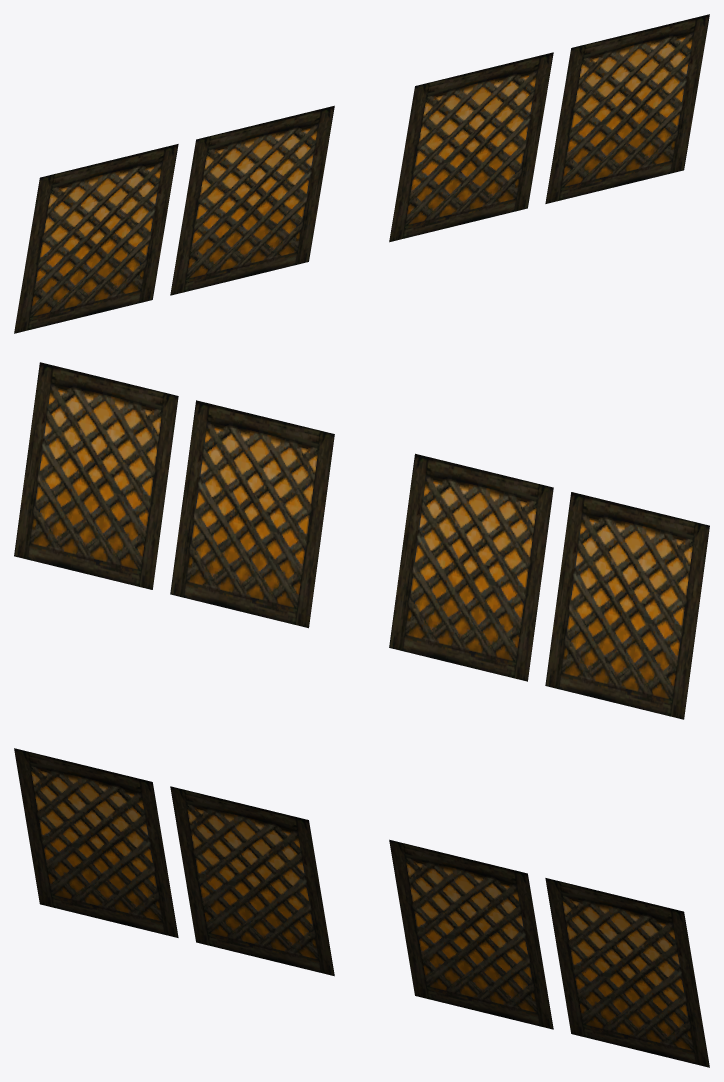
Rendered from LAKETOWN_EXTERIOR_PS_LT_WINDOWS2840.fbx.
The picture shows the model from 3 angles, top to bottom: view 1: azimuth 30°, elevation 25°; view 2: azimuth 150°, elevation 25°; view 3: azimuth 330°, elevation 25°; orthographic projection.
Parts seen in each view (by area): view 1: LAKETOWN_EXTERIOR_PS_LT_WINDOWS2840; view 2: LAKETOWN_EXTERIOR_PS_LT_WINDOWS2840; view 3: LAKETOWN_EXTERIOR_PS_LT_WINDOWS2840.
Boxes of the visible parts, x1,y1,x2,y2 form: LAKETOWN_EXTERIOR_PS_LT_WINDOWS2840: (14, 14, 709, 333); LAKETOWN_EXTERIOR_PS_LT_WINDOWS2840: (14, 362, 709, 719); LAKETOWN_EXTERIOR_PS_LT_WINDOWS2840: (14, 748, 709, 1067).
Size of the model in its own units: 50654 by 12654 by 3391.
1 material, 1 textured.
